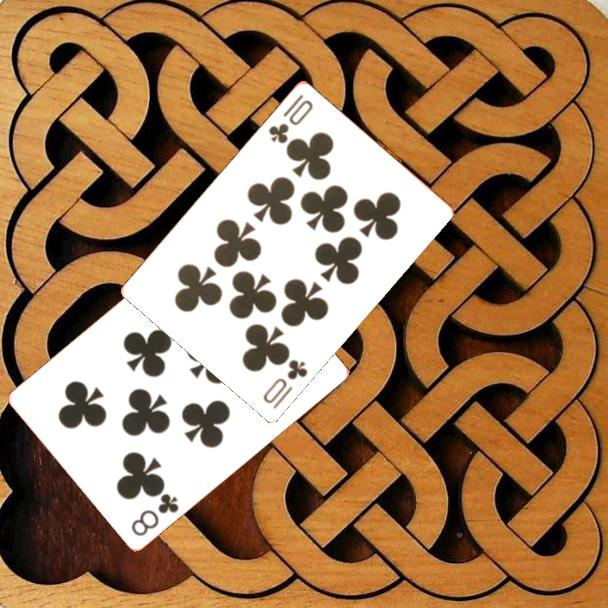c08: (128, 489, 182, 539)
c10: (264, 90, 316, 146), (259, 355, 310, 411)
